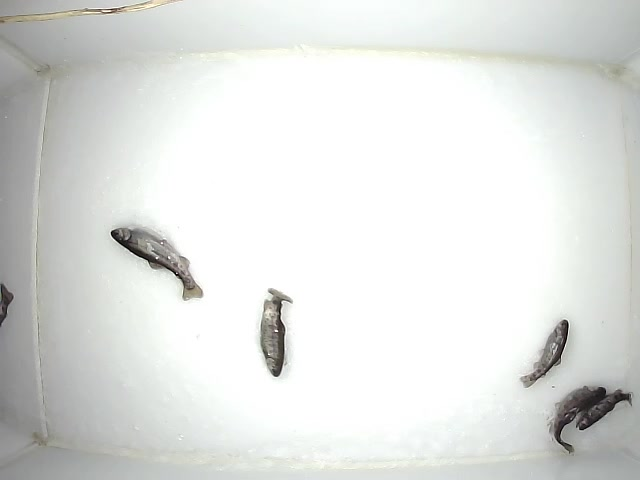fish: (107, 226, 205, 301), (548, 384, 607, 456), (518, 316, 570, 389), (258, 286, 294, 380), (573, 386, 634, 434)
